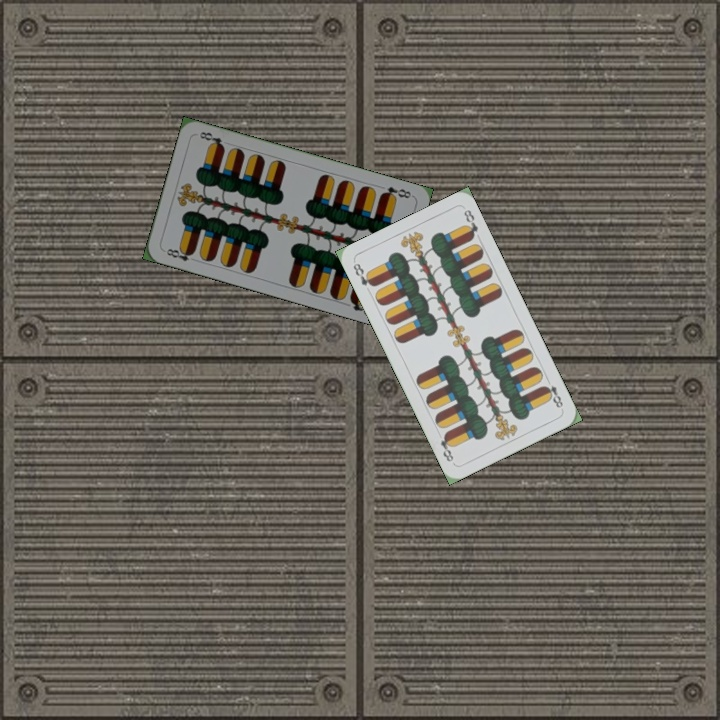E8: (539, 374, 566, 411), (349, 259, 377, 289), (160, 244, 199, 264), (377, 182, 414, 202)
